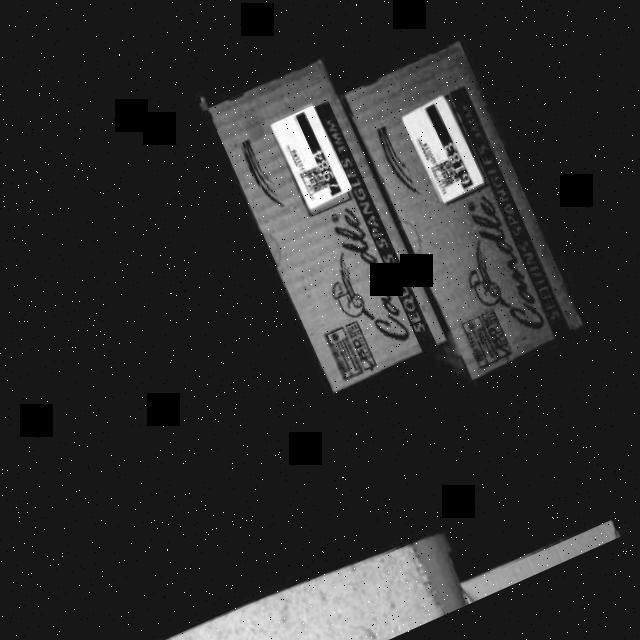box: (207, 50, 453, 396), (347, 41, 586, 378)
